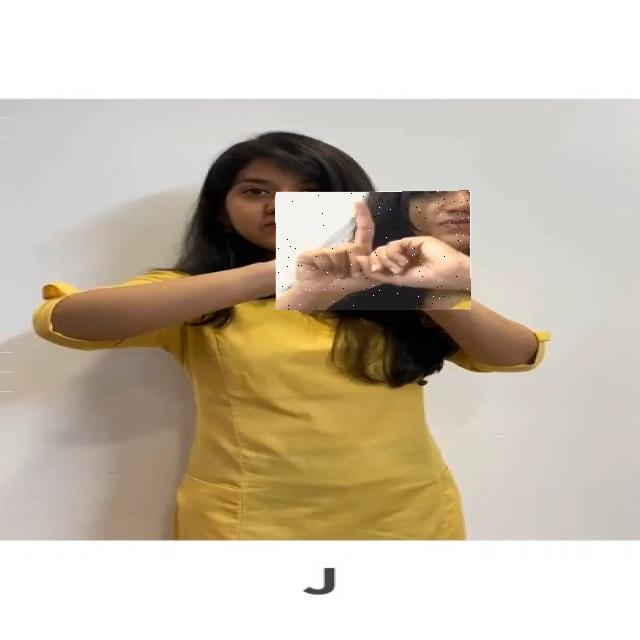J: (275, 191, 471, 310)
